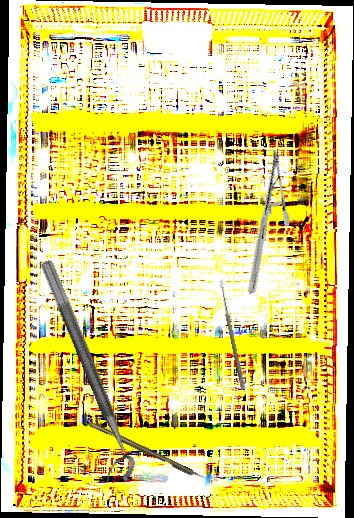Fixation Ring: (22, 258, 141, 489)
Hook Surgical: (91, 421, 211, 485)
Needle Holder: (207, 148, 321, 295)
Surgical Spoon: (217, 279, 247, 390)
